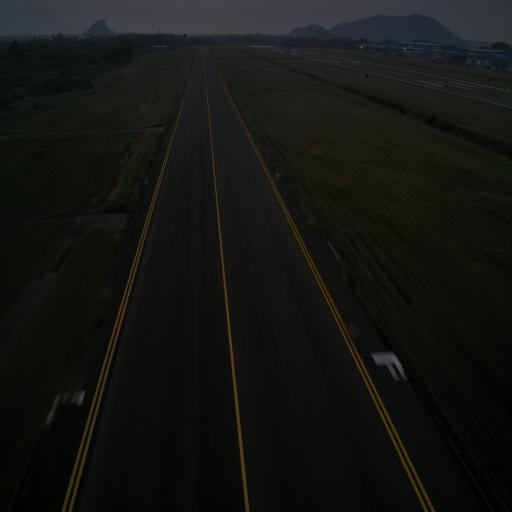on: (276, 169, 281, 179), (145, 175, 149, 182)
